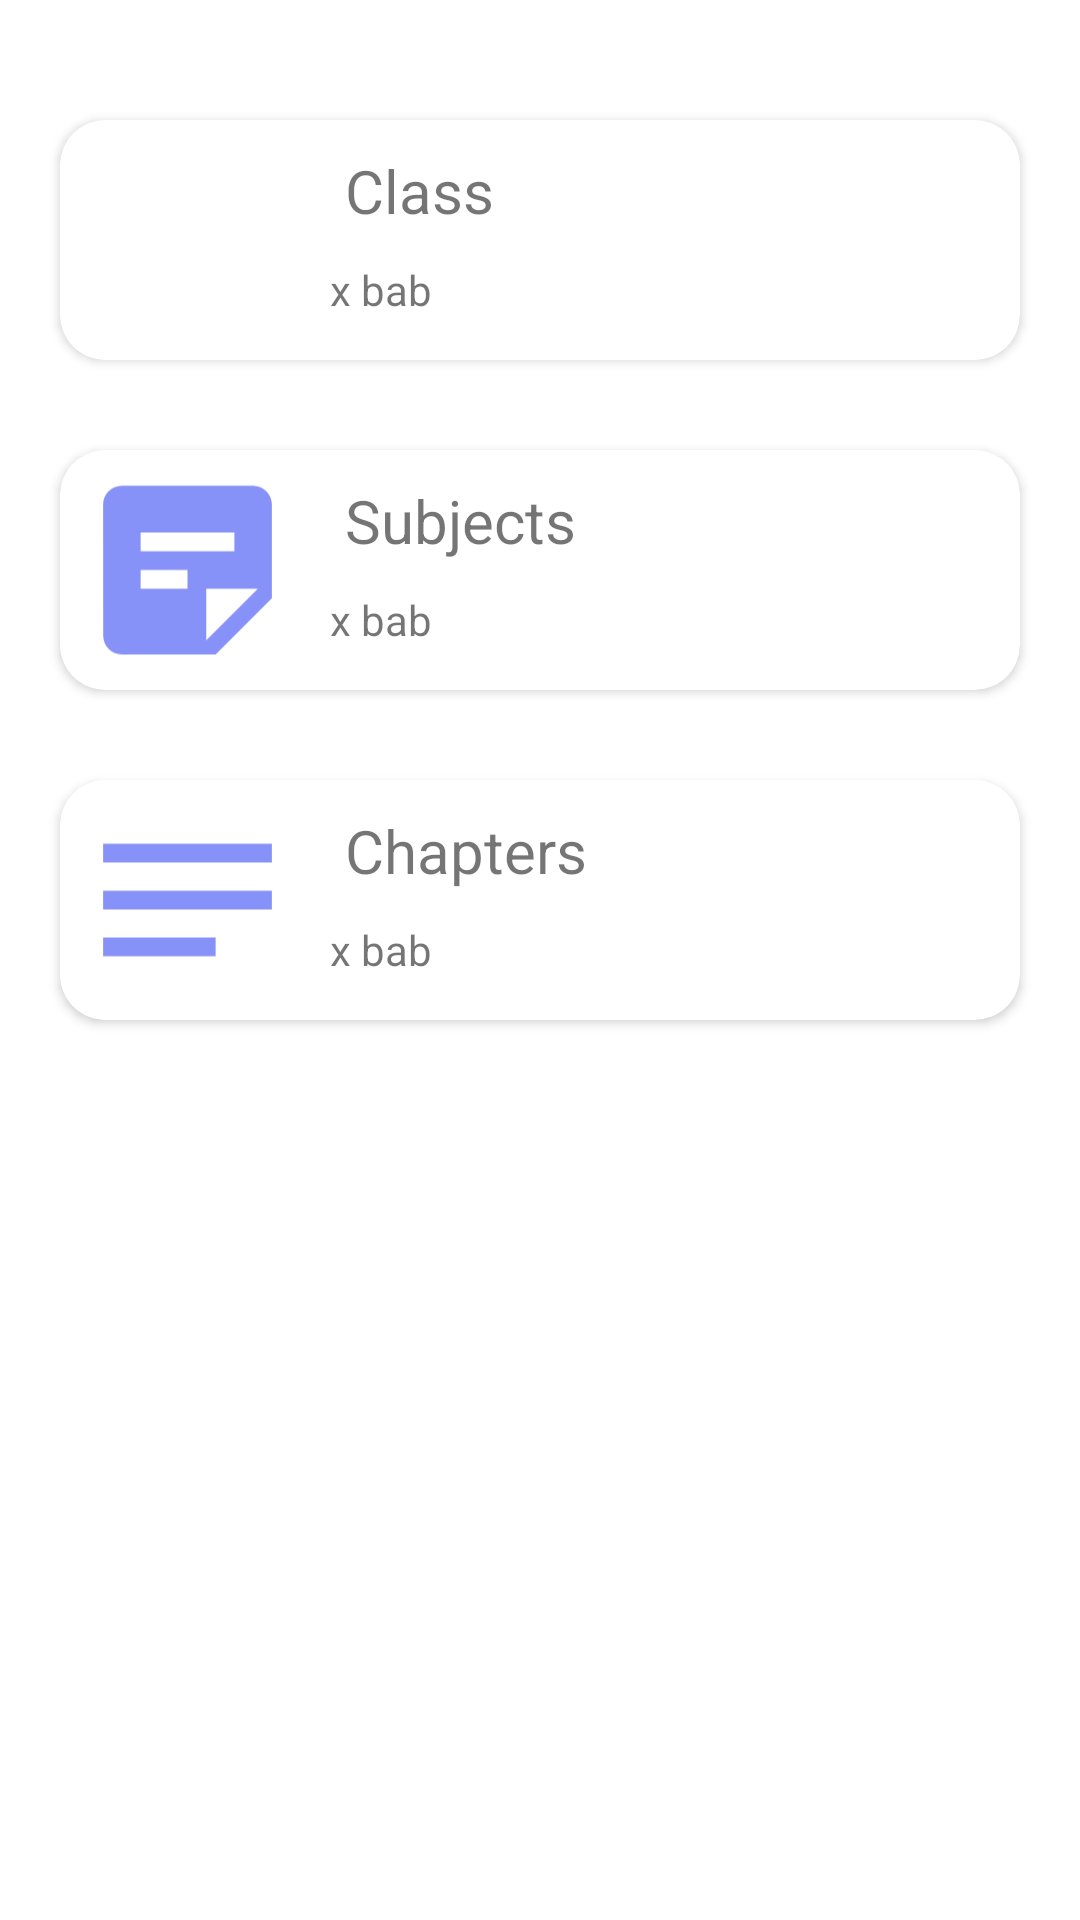

Point at icon controls on the screen. Image size 1080 × 1920, points as (x,y).
notes: (187,900)
sticky note: (166,573)
